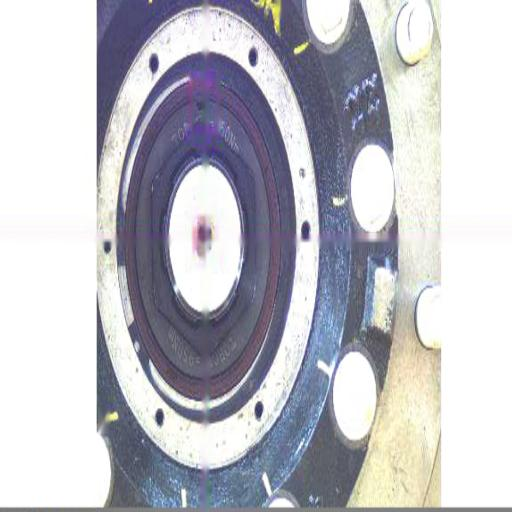center: (194, 220, 210, 248)
notch: (192, 94, 207, 121)
